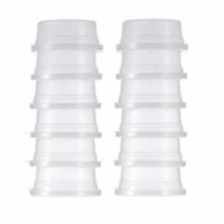plastic_box: (25, 130, 105, 170), (27, 100, 104, 140), (25, 17, 106, 55), (23, 163, 103, 201), (111, 162, 188, 201), (26, 47, 105, 83), (111, 104, 189, 139), (111, 134, 188, 169), (113, 16, 190, 51), (112, 46, 188, 81), (26, 75, 102, 110), (111, 76, 188, 110)
